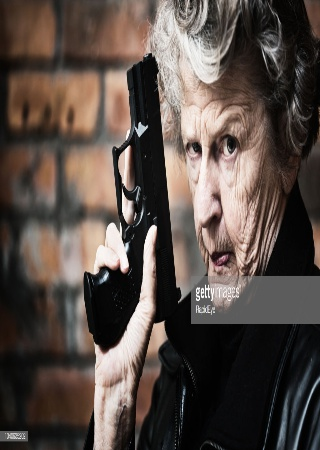handgun: (81, 49, 184, 347)
